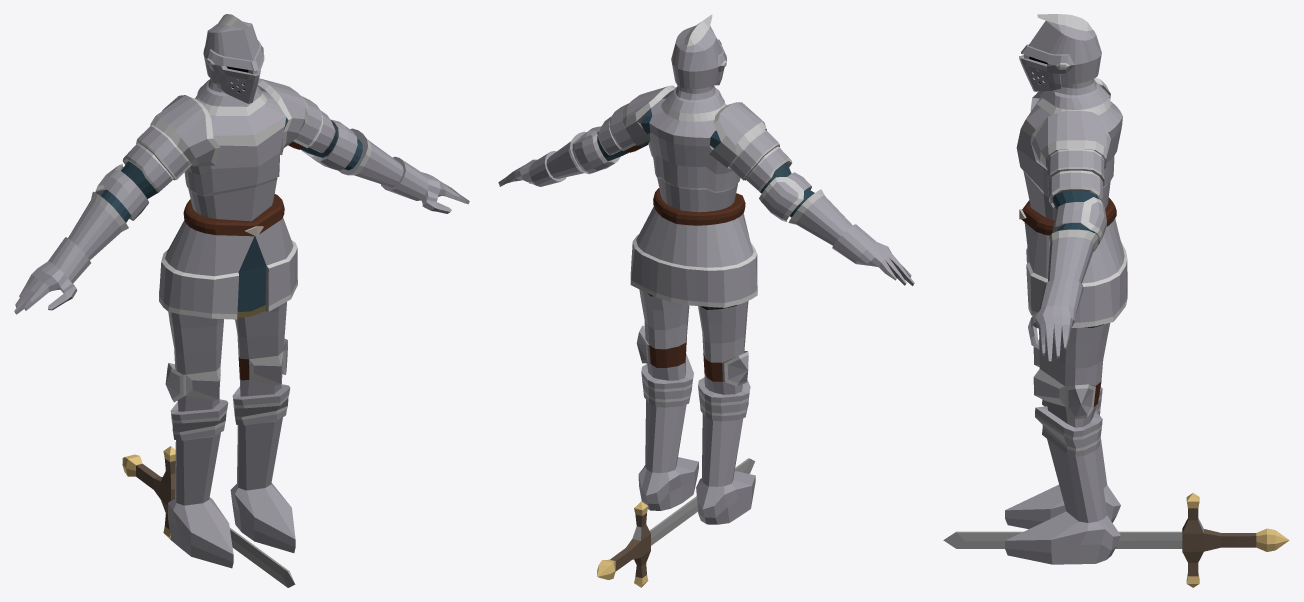
The model's file is Sword.fbx.
3 views of the same model, side by side, from view 1: azimuth 30°, elevation 25°; view 2: azimuth 150°, elevation 25°; view 3: azimuth 270°, elevation 25° (orthographic). The views are drawn at different scales.
Parts seen in each view (by area): view 1: KnightBody, Sword; view 2: KnightBody, Sword; view 3: KnightBody, Sword.
Part boxes in pixels (x1=…): KnightBody: x1=14, y1=14, x2=469, y2=568; Sword: x1=122, y1=446, x2=295, y2=587; KnightBody: x1=498, y1=14, x2=914, y2=524; Sword: x1=597, y1=458, x2=754, y2=587; KnightBody: x1=1005, y1=14, x2=1127, y2=564; Sword: x1=943, y1=493, x2=1289, y2=587.
Bounding box in the file's own units: 1191 × 1431 × 783.
